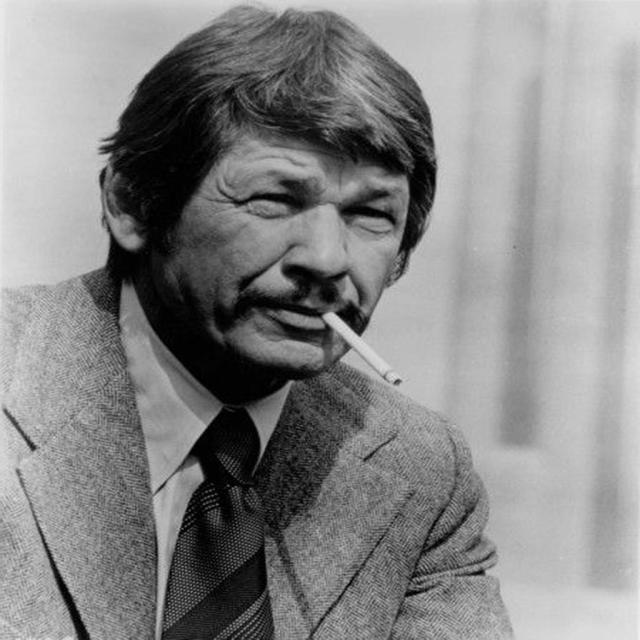smoking: (163, 72, 414, 387)
